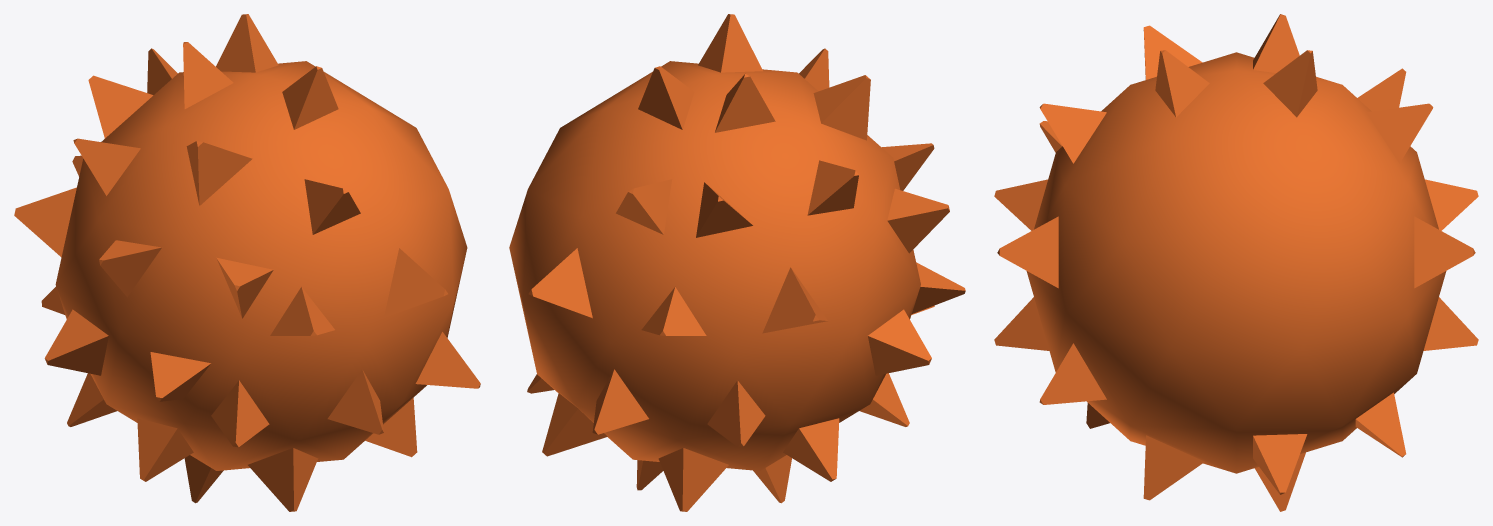
Rendered from Projectile_Blue.fbx.
3 views of the same model, side by side, from view 1: azimuth 30°, elevation 25°; view 2: azimuth 150°, elevation 25°; view 3: azimuth 270°, elevation 25° (orthographic).
Visible parts, largest first — view 1: Icosphere; view 2: Icosphere; view 3: Icosphere.
Boxes of the visible parts, left/top/right/bottom form: Icosphere: left=14, top=14, right=480, bottom=511; Icosphere: left=509, top=14, right=965, bottom=511; Icosphere: left=994, top=14, right=1478, bottom=511.
Bounding box in the file's own units: 2.13 × 2.28 × 2.31.
